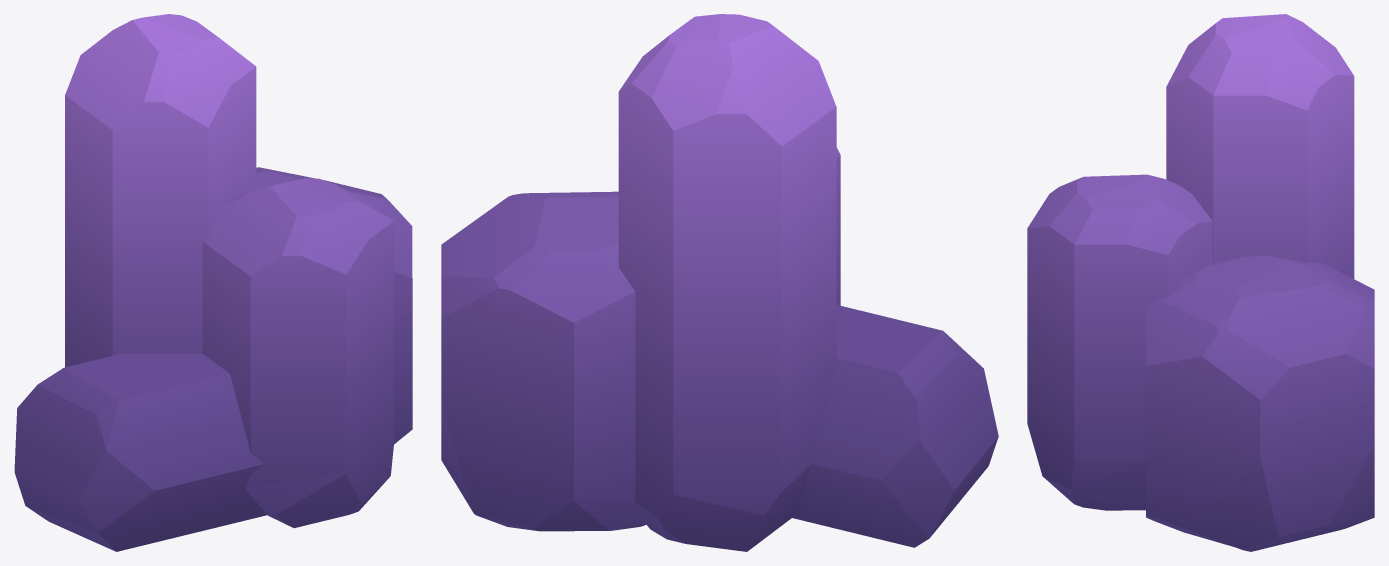
The model's file is Crystal_P_18.glb.
3 renders of one model, left to right at view 1: azimuth 30°, elevation 25°; view 2: azimuth 150°, elevation 25°; view 3: azimuth 270°, elevation 25°, orthographic. The views are drawn at different scales.
Visible parts, largest first — view 1: crystal_18; view 2: crystal_18; view 3: crystal_18.
Part boxes in pixels (<box>): crystal_18: <box>14,14,412,551</box>; crystal_18: <box>441,14,998,551</box>; crystal_18: <box>1027,14,1374,551</box>.
Size of the model in its own units: 0.9869 by 1 by 0.7121.
Materials: 1 (1 with a texture image).
